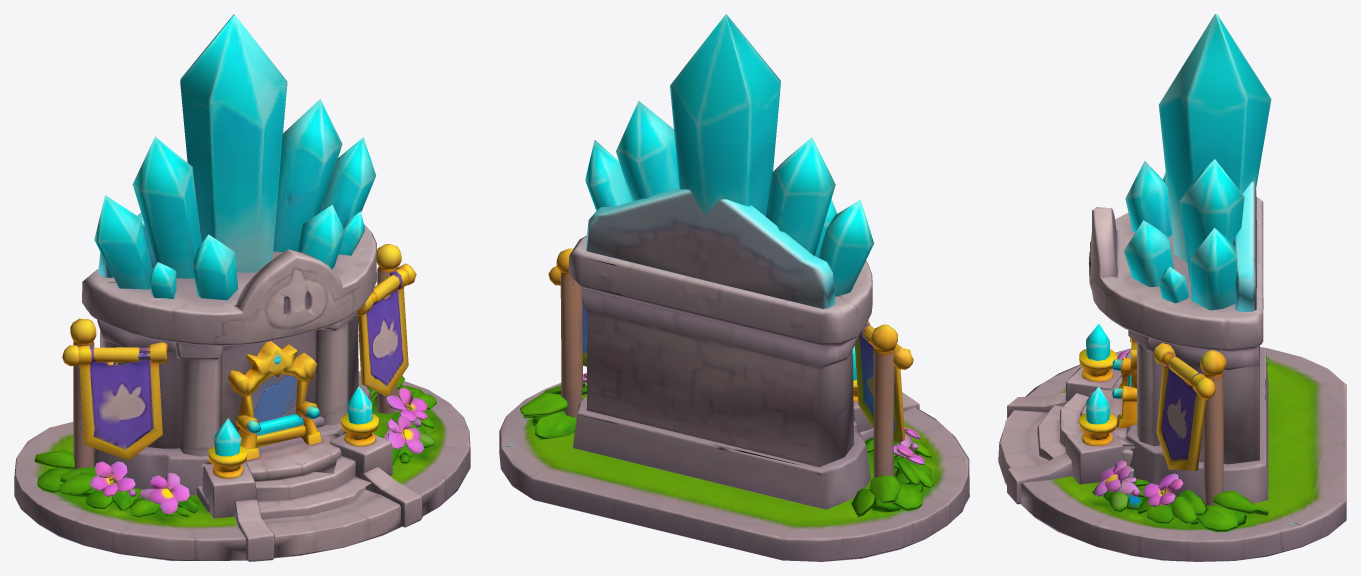
Rendered from CrownShrine.glb.
3 renders of one model, left to right at view 1: azimuth 30°, elevation 25°; view 2: azimuth 150°, elevation 25°; view 3: azimuth 270°, elevation 25°, orthographic. The views are drawn at different scales.
Parts seen in each view (by area): view 1: geometry_0; view 2: geometry_0; view 3: geometry_0.
Part boxes in pixels (left/top/right/bottom): geometry_0: left=14, top=14, right=470, bottom=561; geometry_0: left=499, top=14, right=969, bottom=561; geometry_0: left=998, top=14, right=1346, bottom=561.
Bounding box in the file's own units: 0.9077 × 0.9517 × 0.6689.
1 material, 1 textured.
